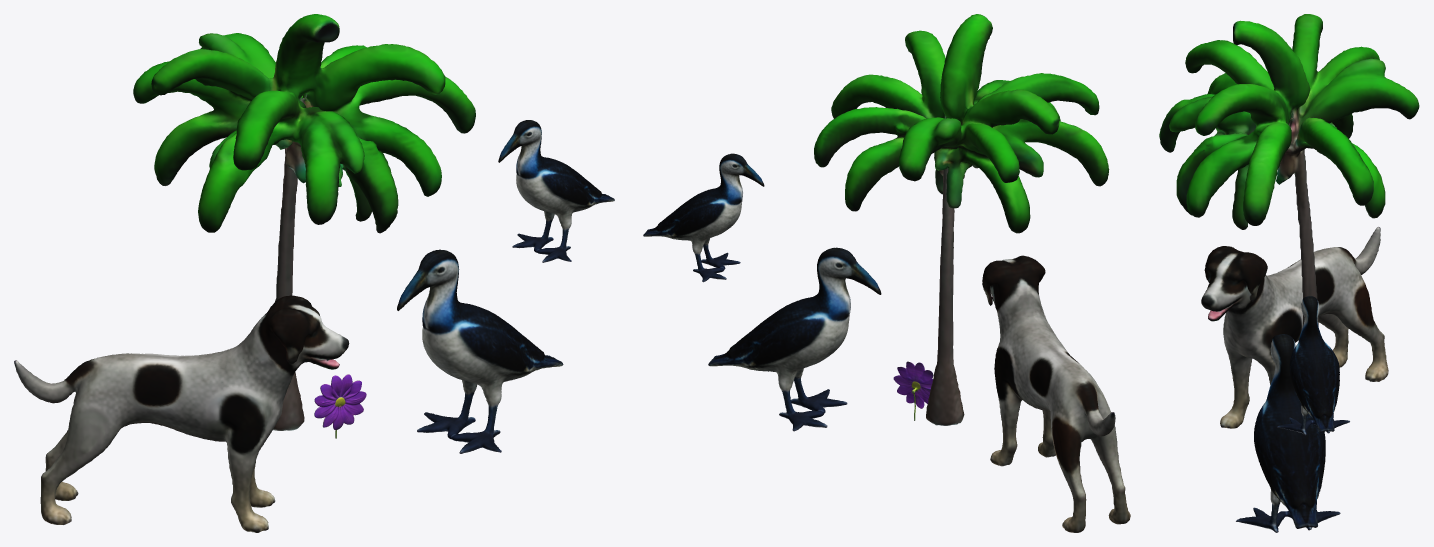
Rendered from blue1.glb.
3 renders of one model, left to right at view 1: azimuth 30°, elevation 25°; view 2: azimuth 150°, elevation 25°; view 3: azimuth 270°, elevation 25°, orthographic. The views are drawn at different scales.
Visible parts, largest first — view 1: Mesh_0.004, Mesh_0.008, Mesh_0.001, Mesh_0.002, Mesh_0.005; view 2: Mesh_0.004, Mesh_0.008, Mesh_0.001, Mesh_0.002, Mesh_0.005; view 3: Mesh_0.004, Mesh_0.008, Mesh_0.001, Mesh_0.002.
Boxes of the visible parts, x1,y1,x2,y2 form: Mesh_0.004: (133,14,475,430); Mesh_0.008: (14,295,349,532); Mesh_0.001: (397,249,563,453); Mesh_0.002: (498,120,614,262); Mesh_0.005: (314,374,366,438); Mesh_0.004: (814,14,1109,425); Mesh_0.008: (982,255,1130,532); Mesh_0.001: (708,247,881,431); Mesh_0.002: (643,153,764,282); Mesh_0.005: (893,361,933,420); Mesh_0.004: (1159,14,1419,326); Mesh_0.008: (1201,227,1388,428); Mesh_0.001: (1236,334,1340,532); Mesh_0.002: (1277,296,1349,435).
Bounding box in the file's own units: 26.84 × 22.1 × 11.92.
4 materials, 4 textured.
